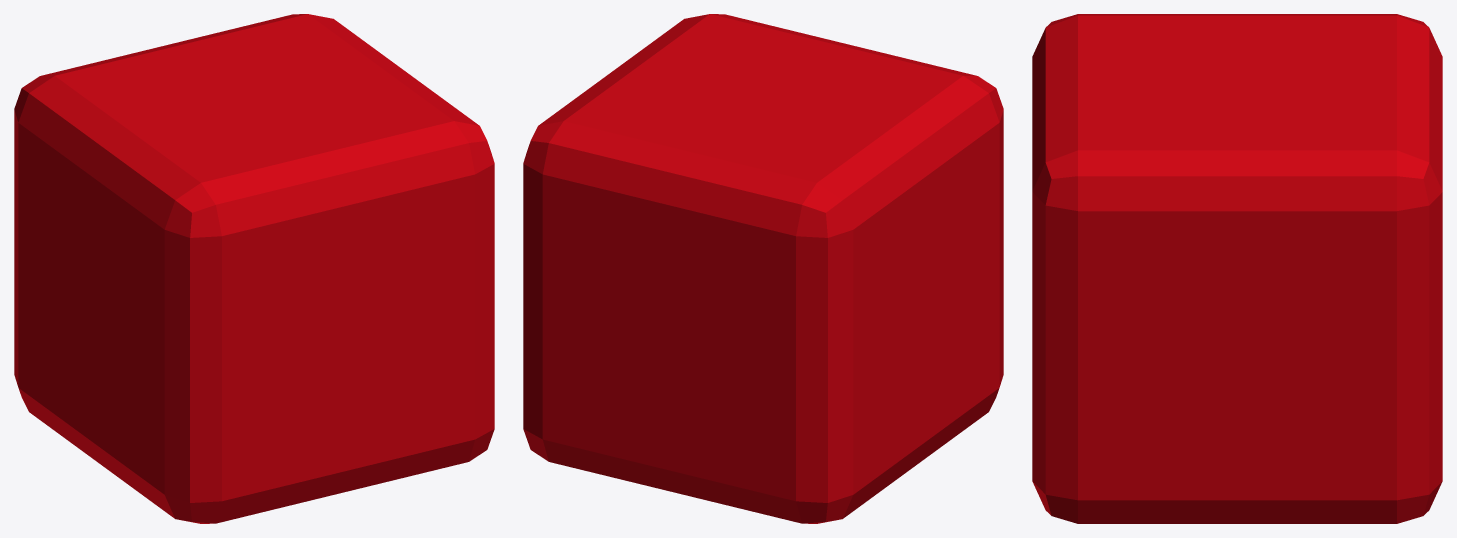
File: WoodCube.fbx
3 renders of one model, left to right at view 1: azimuth 30°, elevation 25°; view 2: azimuth 150°, elevation 25°; view 3: azimuth 270°, elevation 25°, orthographic. The views are drawn at different scales.
Parts seen in each view (by area): view 1: WoodenCube; view 2: WoodenCube; view 3: WoodenCube.
Part boxes in pixels (left/top/right/bottom): WoodenCube: left=14, top=14, right=494, bottom=523; WoodenCube: left=523, top=14, right=1003, bottom=523; WoodenCube: left=1032, top=14, right=1442, bottom=523.
Bounding box in the file's own units: 8.19 × 8.19 × 8.19.
